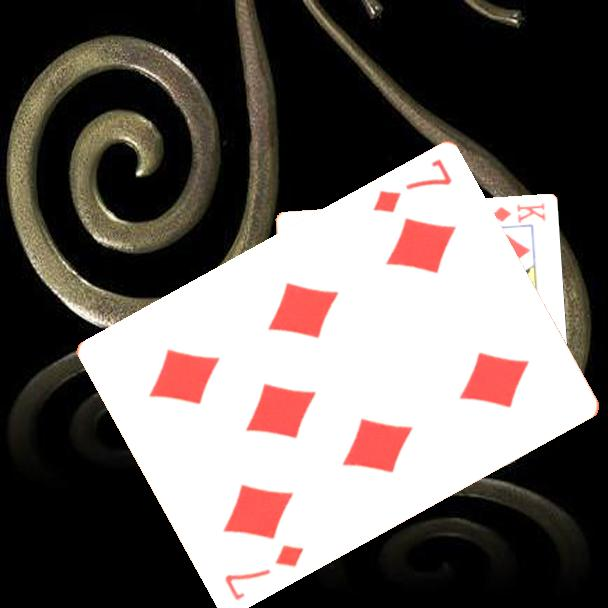d07: (220, 541, 307, 604), (369, 155, 455, 217)
d13: (488, 199, 548, 226)
